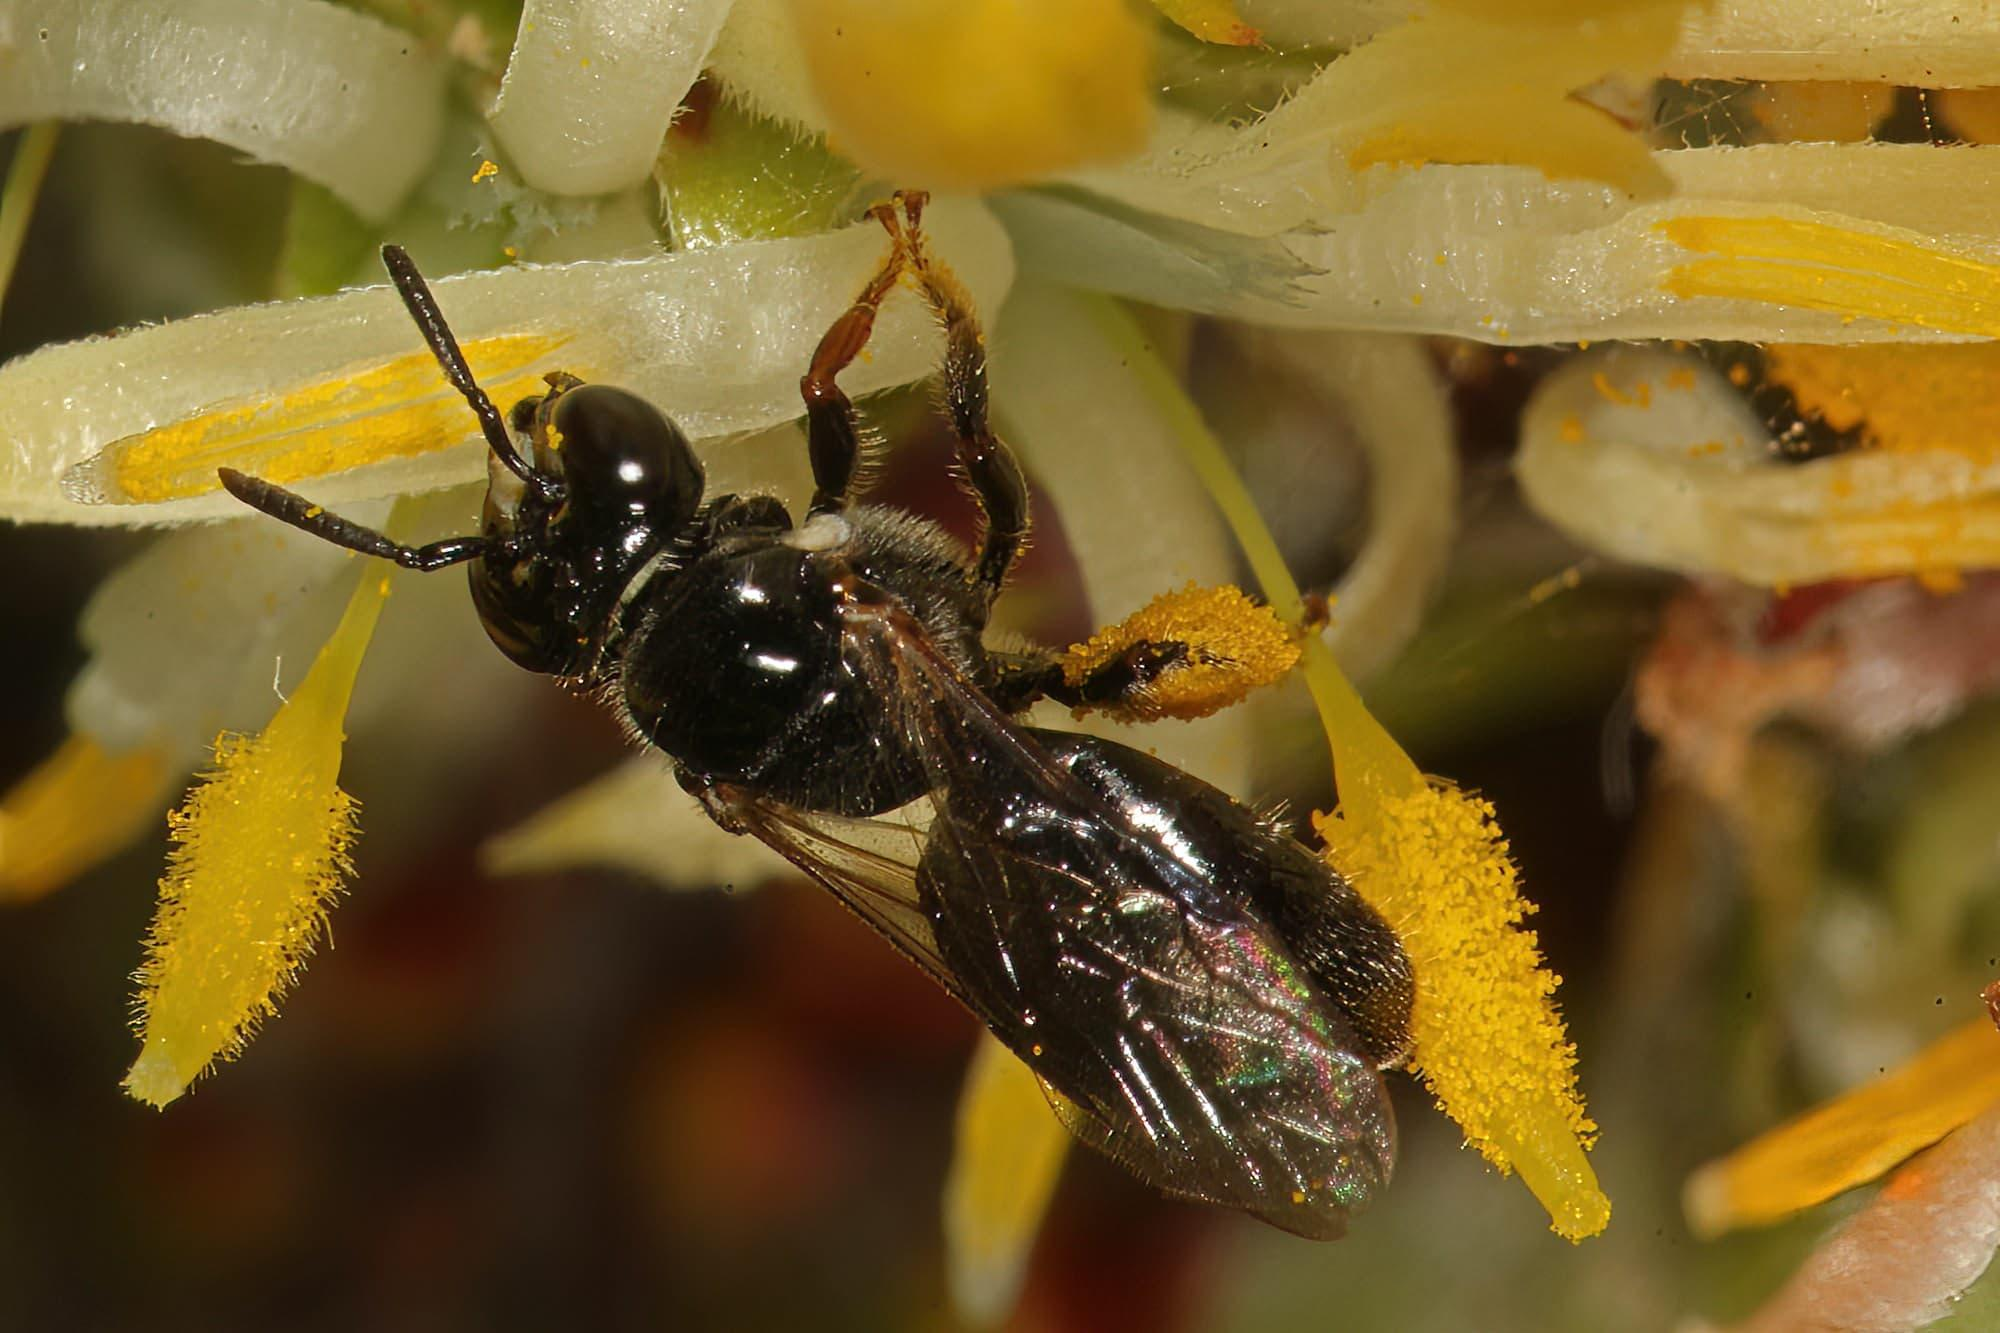Braunsapis: (224, 244, 1598, 1296)
